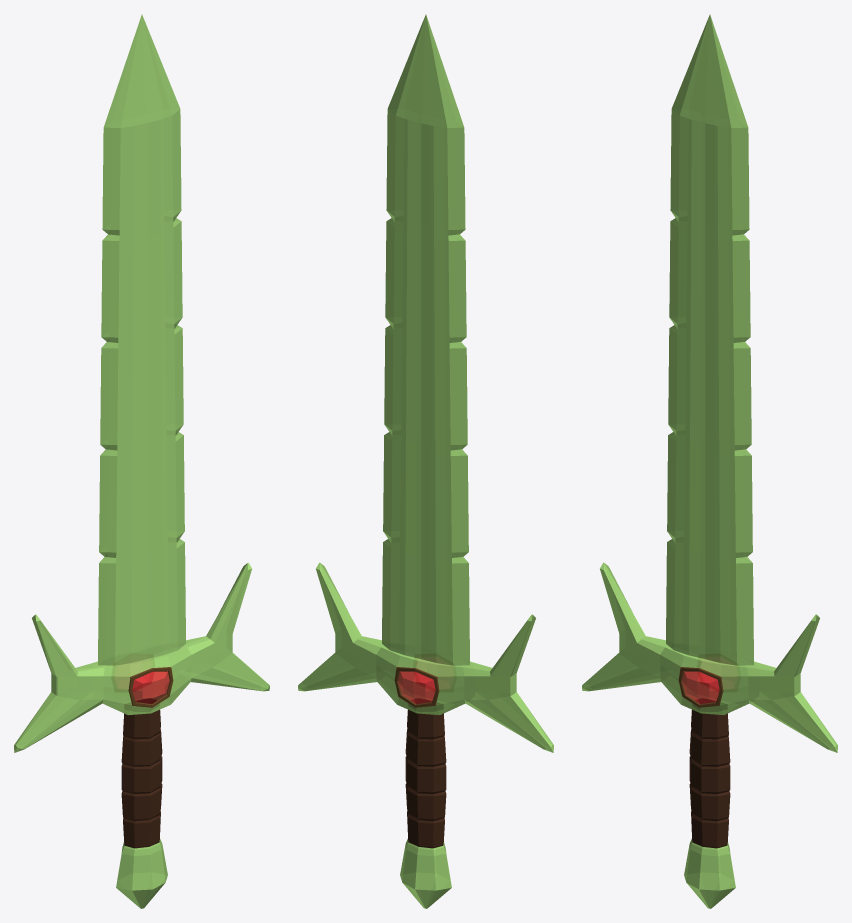
File: sword 2.fbx
3 views of the same model, side by side, from view 1: azimuth 30°, elevation 25°; view 2: azimuth 150°, elevation 25°; view 3: azimuth 330°, elevation 25° (orthographic).
Visible parts, largest first — view 1: Cube.098; view 2: Cube.098; view 3: Cube.098.
Part boxes in pixels (box(x1,y1,x2,y2)): Cube.098: box(14, 14, 269, 908); Cube.098: box(298, 14, 553, 908); Cube.098: box(582, 14, 837, 908).
Size of the model in its own units: 43.66 by 146 by 7.42.
